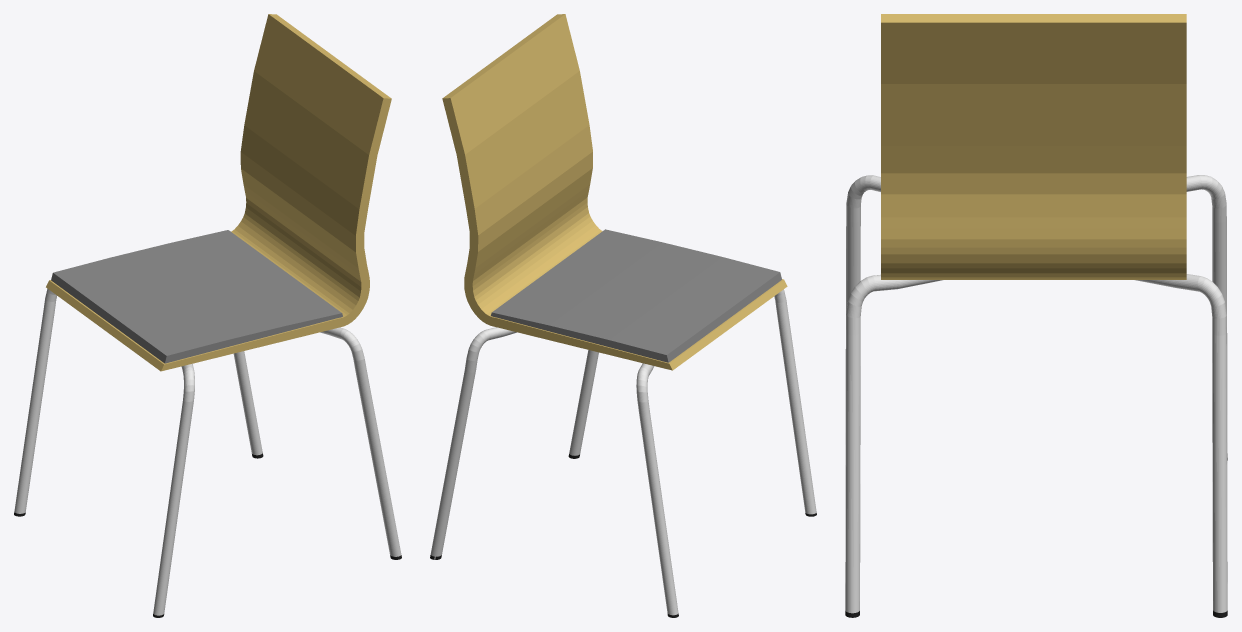
The model's file is 413_simple_chair_visual.dae.
3 renders of one model, left to right at view 1: azimuth 30°, elevation 25°; view 2: azimuth 150°, elevation 25°; view 3: azimuth 270°, elevation 25°, orthographic. The views are drawn at different scales.
Parts seen in each view (by area): view 1: Cube; view 2: Cube; view 3: Cube.
Boxes of the visible parts, x1,y1,x2,y2 form: Cube: [14, 14, 401, 617]; Cube: [430, 14, 816, 617]; Cube: [845, 14, 1227, 617].
Size of the model in its own units: 50.1 by 50.18 by 86.8.
